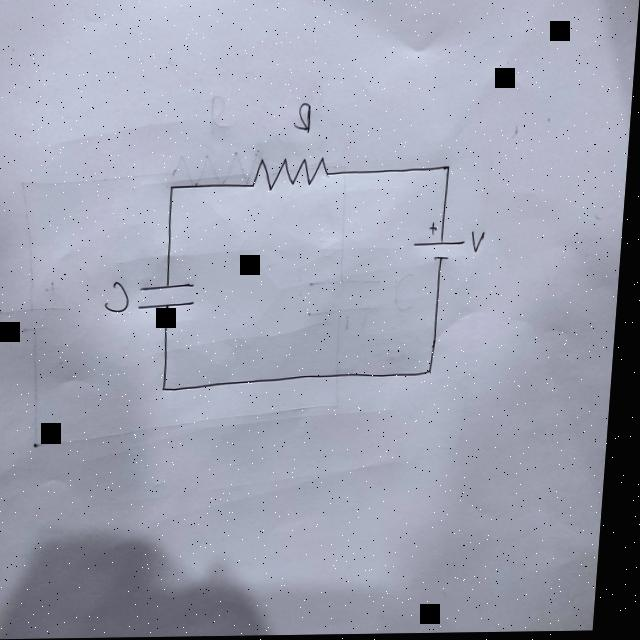capacitor: (140, 280, 205, 313)
junction: (166, 382, 177, 394), (445, 163, 456, 175), (171, 182, 181, 192), (432, 366, 440, 378)
resistor: (254, 155, 335, 194)
source: (416, 221, 473, 261)
text: (109, 280, 137, 315), (294, 99, 319, 137), (474, 230, 491, 254)
